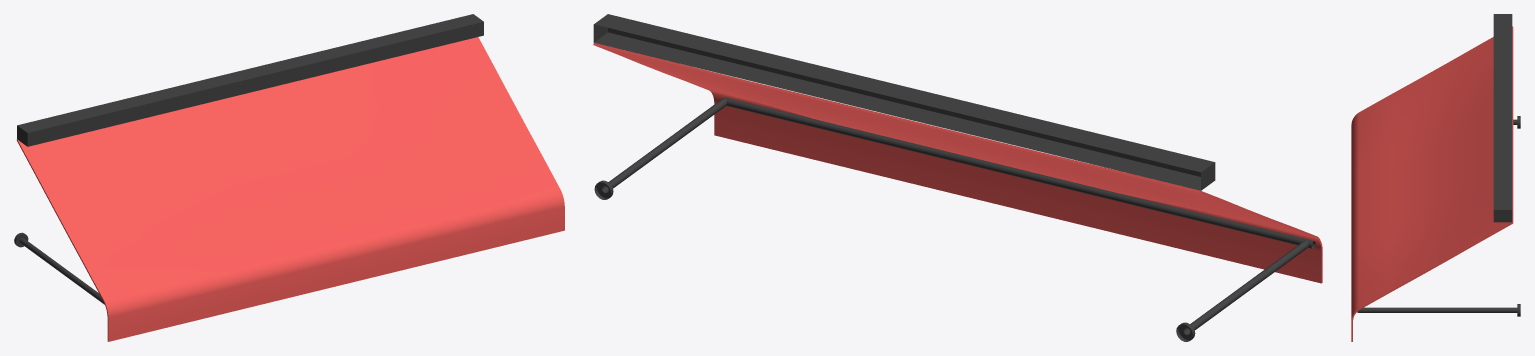
The model's file is object_B1_GF_awning.glb.
3 renders of one model, left to right at view 1: azimuth 30°, elevation 25°; view 2: azimuth 150°, elevation 25°; view 3: azimuth 270°, elevation 25°, orthographic. The views are drawn at different scales.
Visible parts, largest first — view 1: B1 GF awning; view 2: B1 GF awning; view 3: B1 GF awning.
Part boxes in pixels (box(x1,y1,x2,y2)): B1 GF awning: box(14, 14, 564, 341); B1 GF awning: box(593, 14, 1322, 341); B1 GF awning: box(1351, 14, 1520, 341).
Size of the model in its own units: 2.88 by 0.9033 by 1.05.
